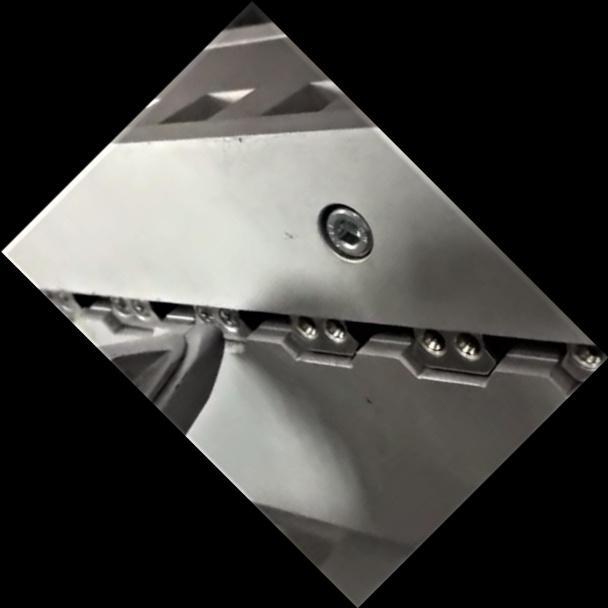hole: (444, 321, 490, 366), (411, 321, 452, 362), (314, 308, 354, 347), (287, 308, 323, 345)
